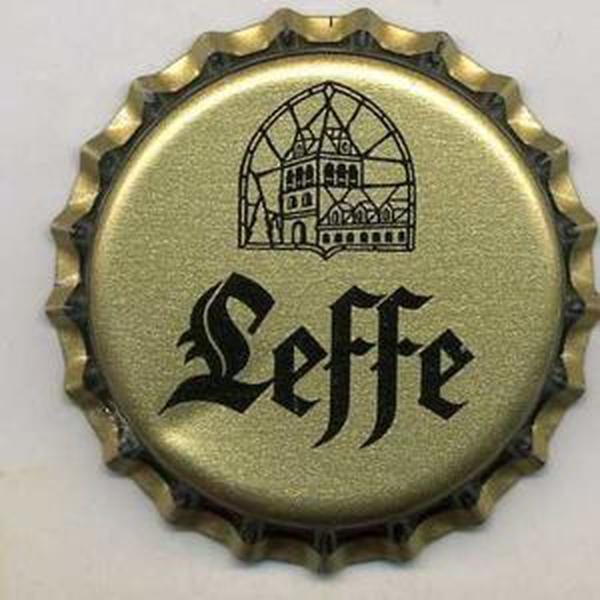leffe: (41, 3, 600, 584)
